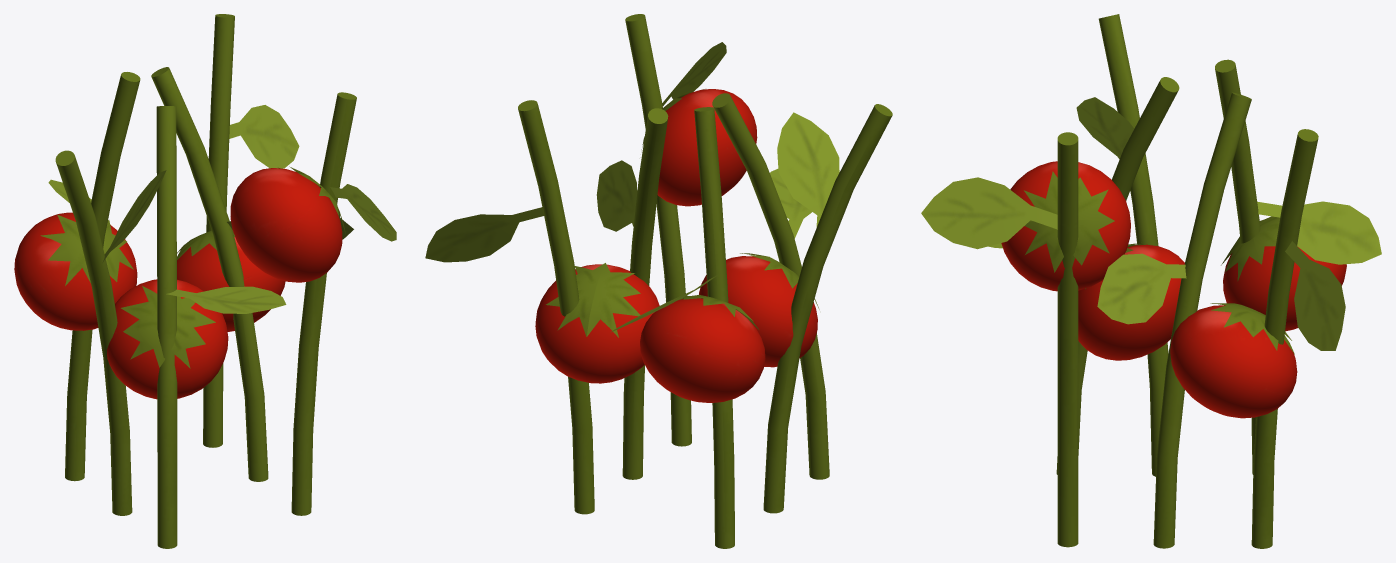
File: TomatoHarvest.FBX
3 renders of one model, left to right at view 1: azimuth 30°, elevation 25°; view 2: azimuth 150°, elevation 25°; view 3: azimuth 270°, elevation 25°, orthographic. The views are drawn at different scales.
Parts seen in each view (by area): view 1: Plane001; view 2: Plane001; view 3: Plane001.
Boxes of the visible parts, x1,y1,x2,y2 form: Plane001: (14,14,396,548); Plane001: (425,14,892,548); Plane001: (921,14,1381,548).
Size of the model in its own units: 32.25 by 35.86 by 34.85.
1 material, 1 textured.
